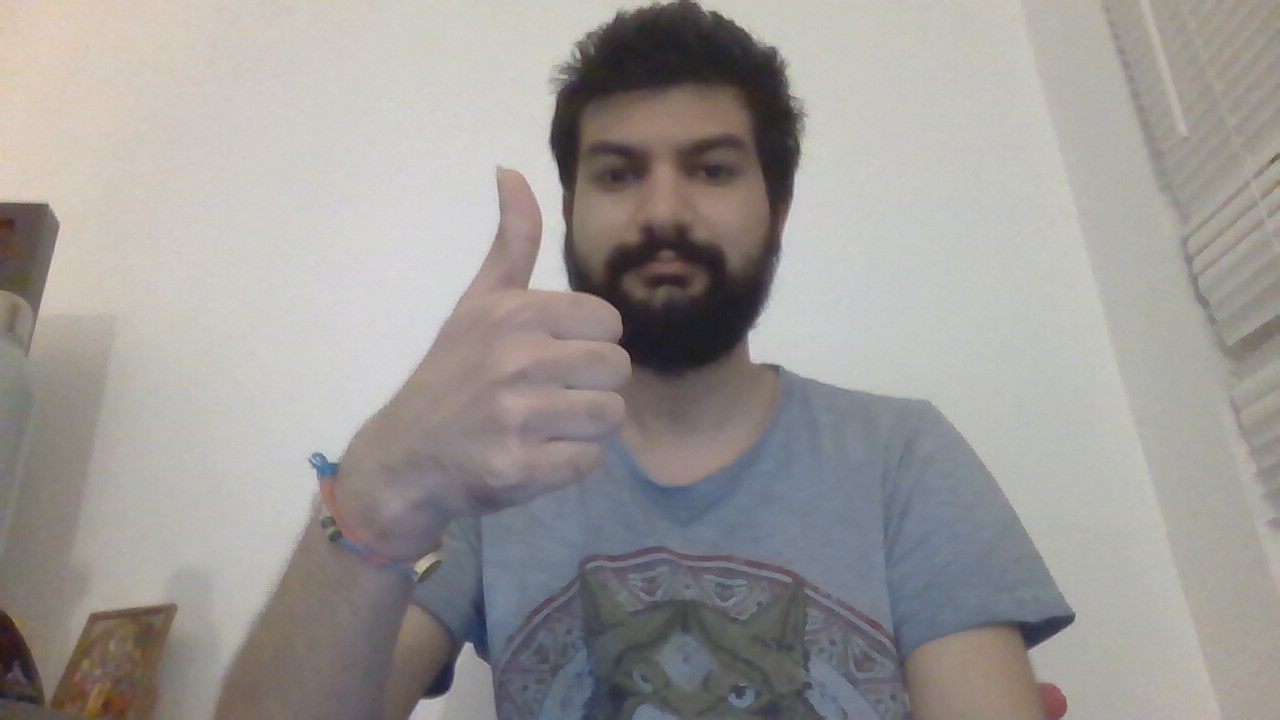up: (396, 160, 648, 513)
